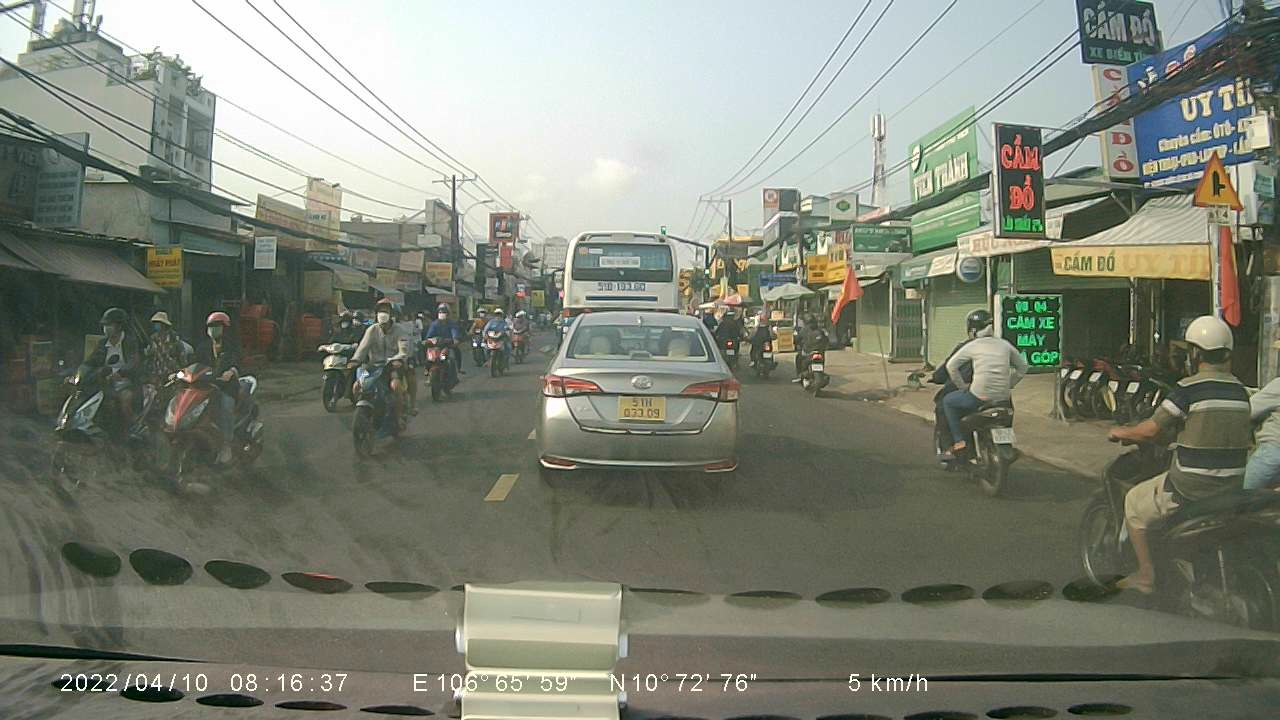Giao nhau voi duong khong uu tien: (1190, 144, 1253, 211)
